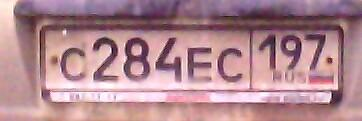license-plateSW: (41, 25, 342, 93)
